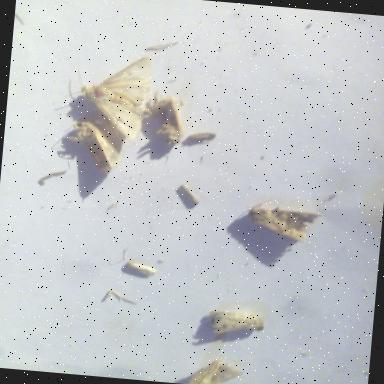abw: (48, 46, 161, 144), (226, 187, 330, 249), (60, 115, 128, 179), (140, 90, 197, 153), (200, 302, 275, 346), (179, 353, 249, 384)
